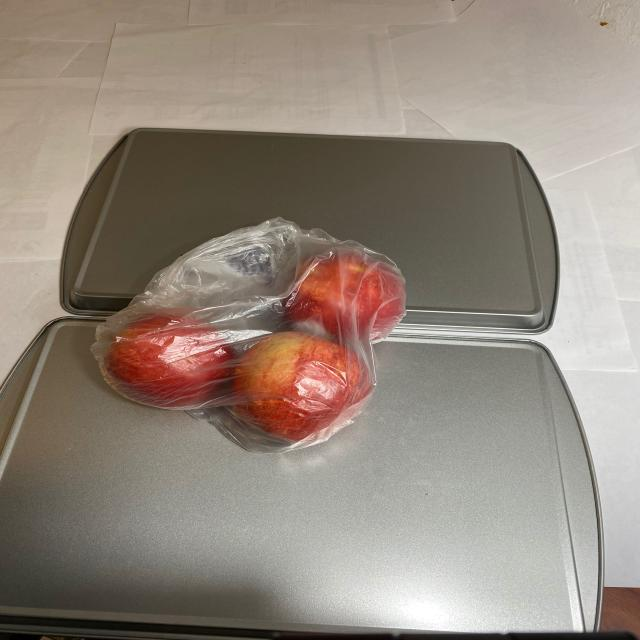apple: (96, 238, 414, 444)
